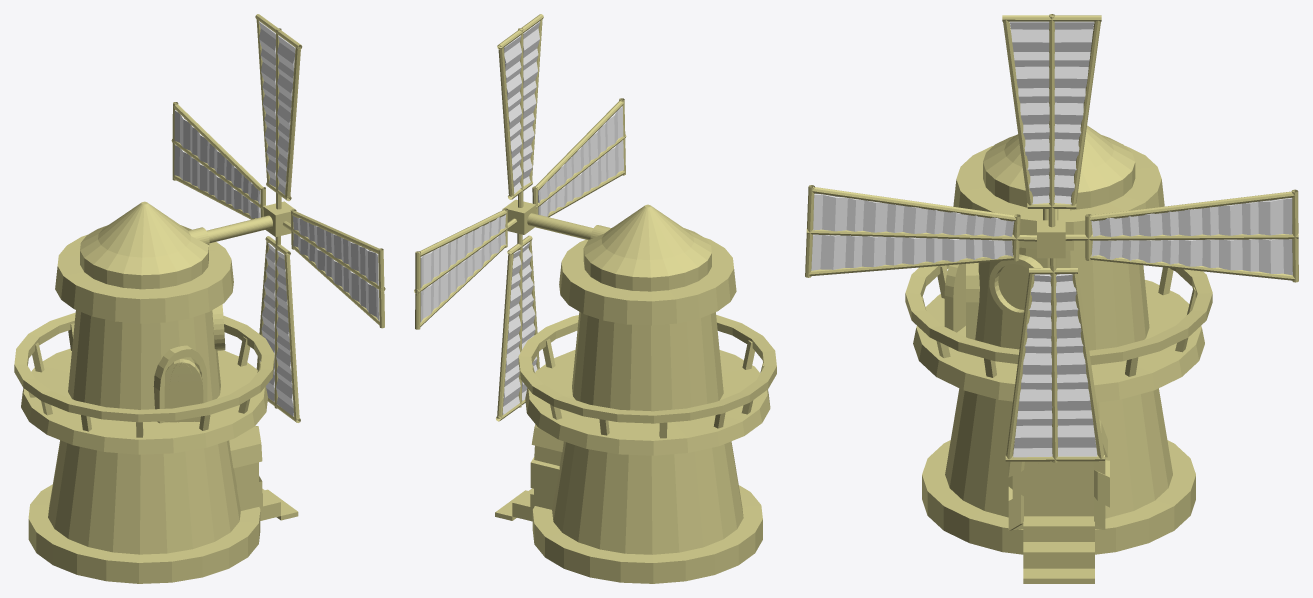
Rendered from Low_Poly_Windmill_35675169.glb.
3 renders of one model, left to right at view 1: azimuth 30°, elevation 25°; view 2: azimuth 150°, elevation 25°; view 3: azimuth 270°, elevation 25°, orthographic. The views are drawn at different scales.
Parts seen in each view (by area): view 1: unnamed (×37); view 2: unnamed (×35); view 3: unnamed (×44).
Part boxes in pixels (x1,y1,x2,y2): unnamed (×37): [14, 21, 385, 583]; unnamed (×35): [414, 18, 776, 583]; unnamed (×44): [806, 14, 1298, 583].
Bounding box in the file's own units: 3.03 × 5.46 × 4.33.
